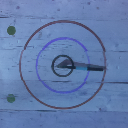Axe Tip: (55, 64, 67, 66)
